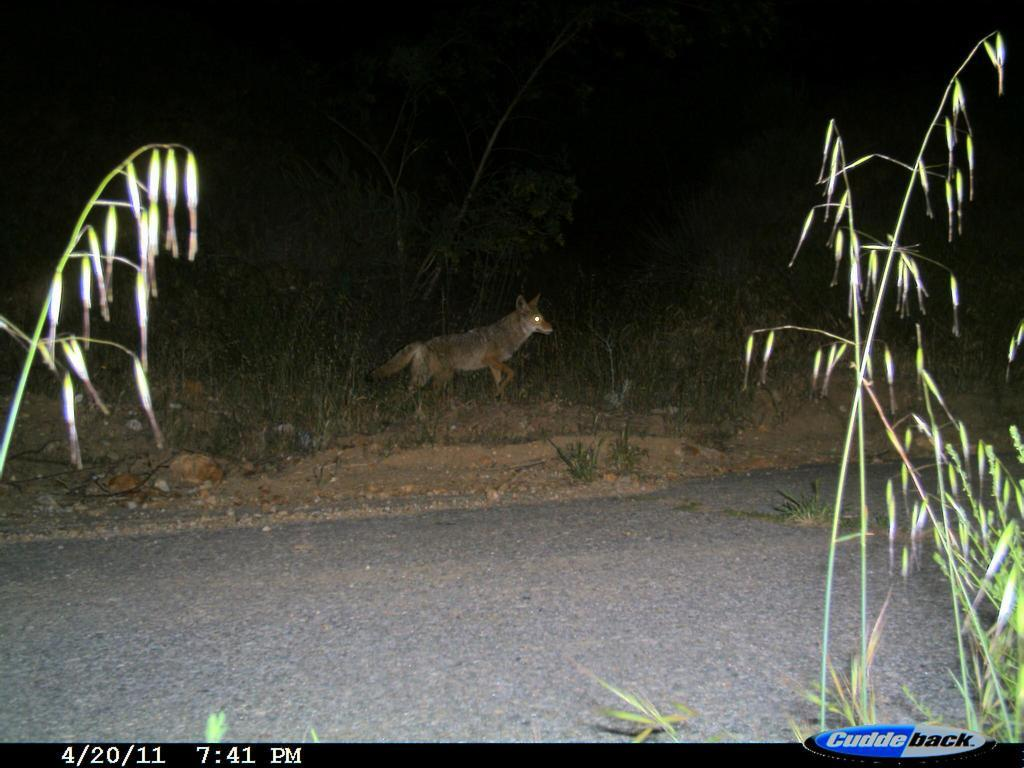coyote: (358, 289, 561, 419)
